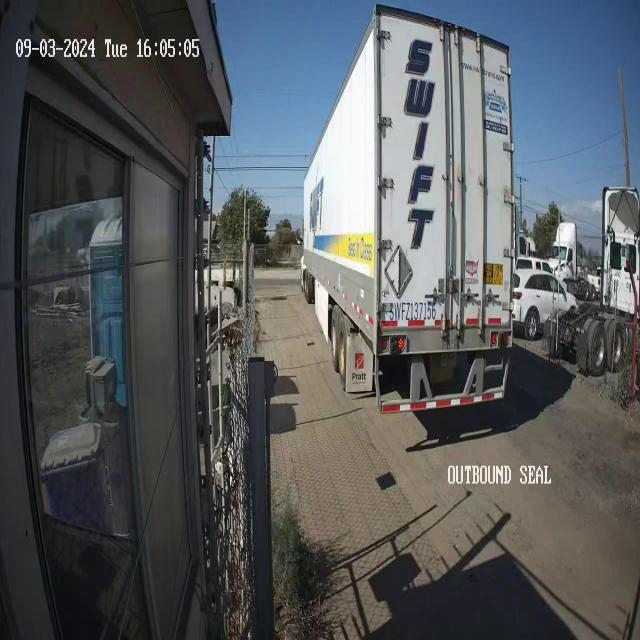CONTAINER: (300, 4, 520, 356)
